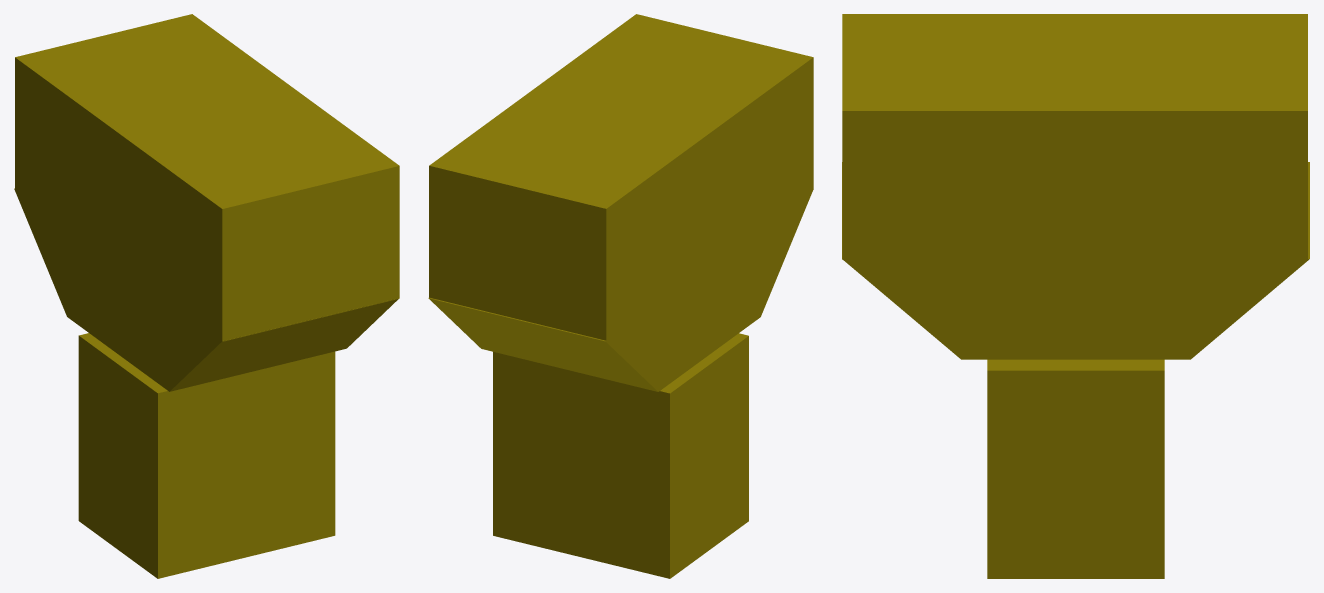
Rendered from Body.obj.
The picture shows the model from 3 angles, left to right: view 1: azimuth 30°, elevation 25°; view 2: azimuth 150°, elevation 25°; view 3: azimuth 270°, elevation 25°; orthographic projection. The views are drawn at different scales.
Parts seen in each view (by area): view 1: Body; view 2: Body; view 3: Body.
Part boxes in pixels (left/top/right/bottom): Body: left=14, top=14, right=399, bottom=578; Body: left=428, top=14, right=813, bottom=578; Body: left=842, top=14, right=1309, bottom=578.
Bounding box in the file's own units: 0.5 × 1.12 × 1.02.
1 material, 1 textured.
